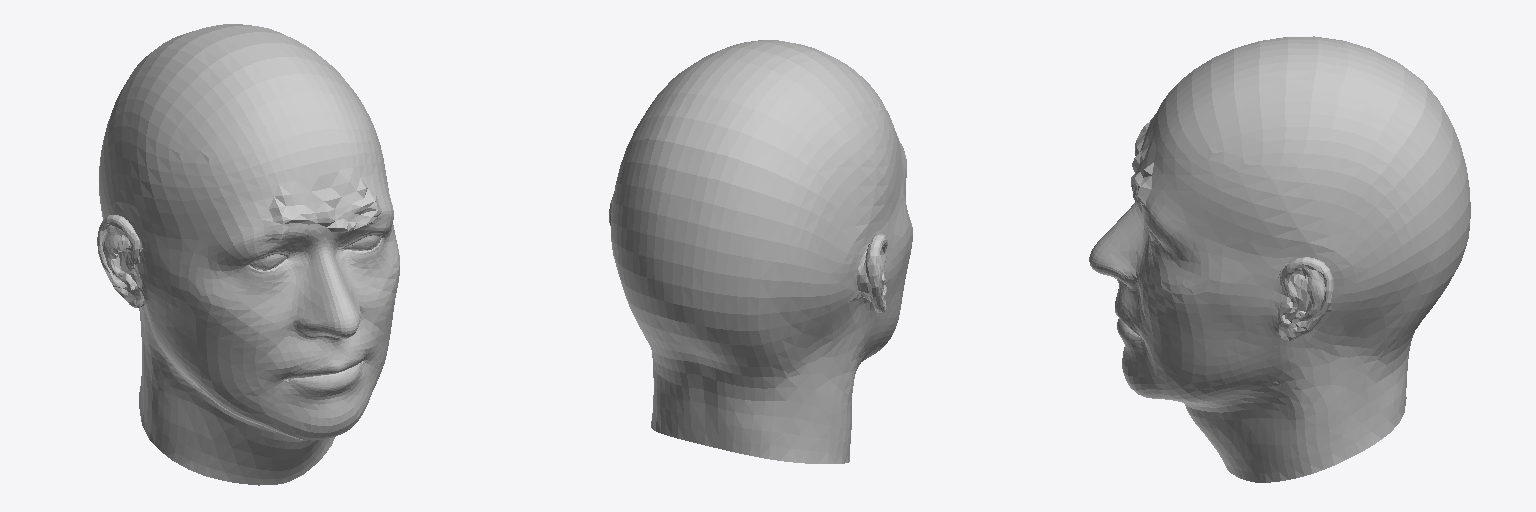
The model's file is MaleFaced12.obj.
3 renders of one model, left to right at view 1: azimuth 30°, elevation 25°; view 2: azimuth 150°, elevation 25°; view 3: azimuth 270°, elevation 25°, orthographic.
Visible parts, largest first — view 1: HeadHires; view 2: HeadHires; view 3: HeadHires.
Boxes of the visible parts, <box> form: HeadHires: <box>97,24,399,485</box>; HeadHires: <box>609,40,912,463</box>; HeadHires: <box>1089,36,1470,482</box>.
Bounding box in the file's own units: 192 × 283 × 236.